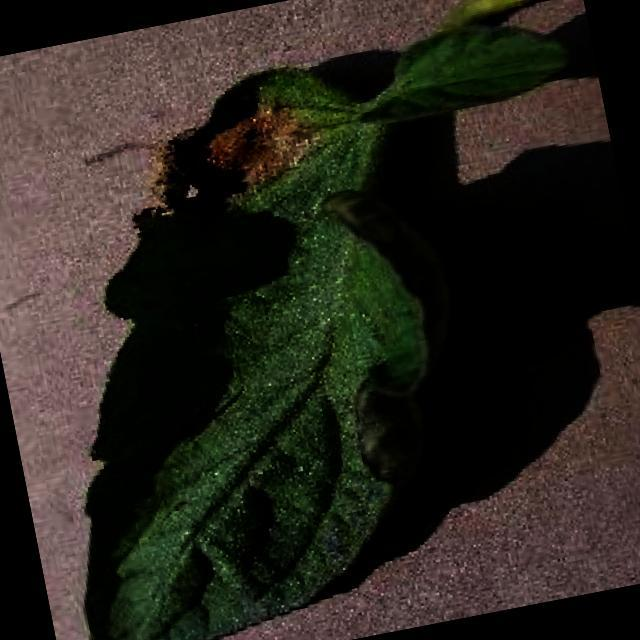Tomato healthy leaf: (366, 16, 578, 134)
Tomato late blight leaf: (0, 21, 509, 640)
